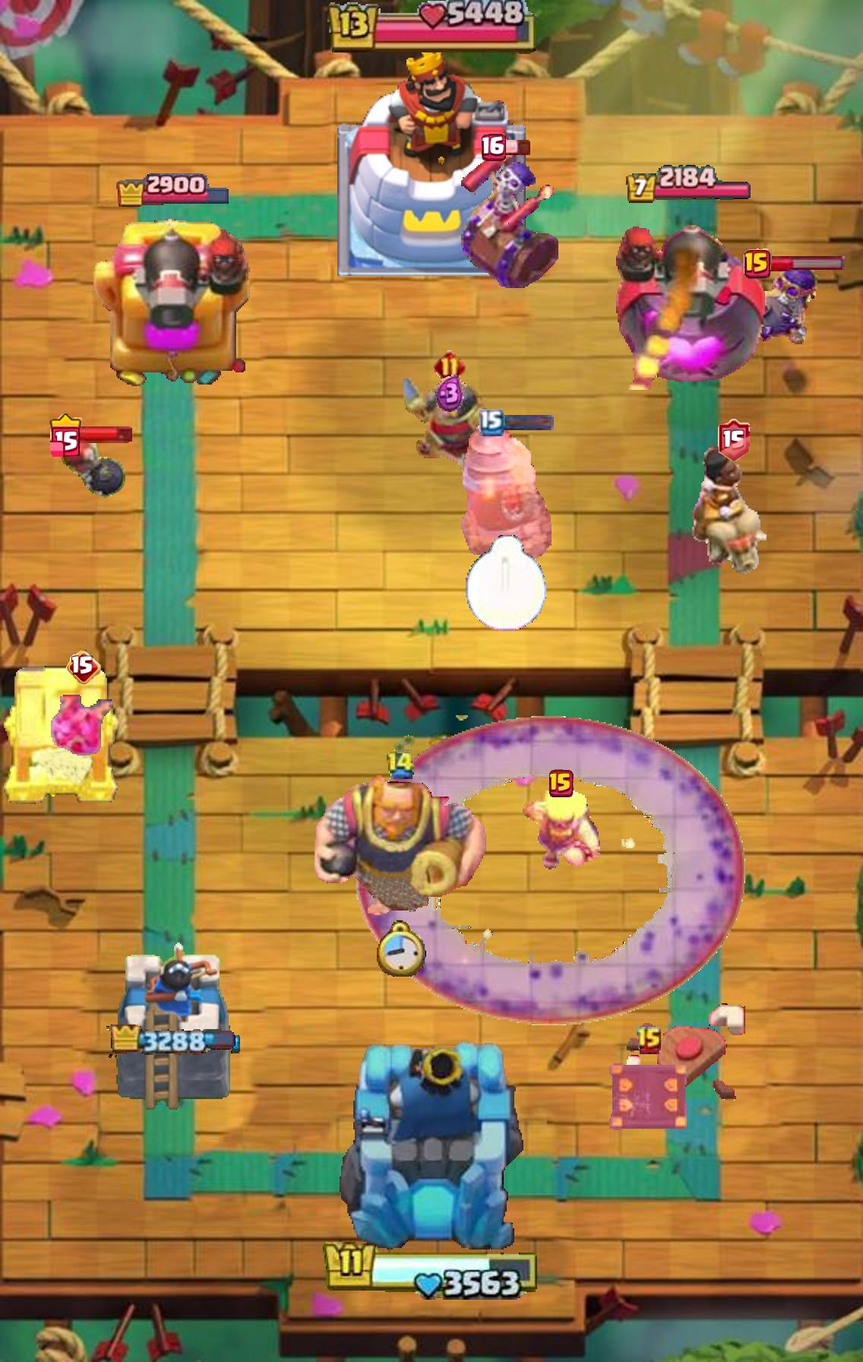bar: (768, 255, 846, 272), (78, 426, 133, 444), (502, 139, 531, 156)
bar-level: (49, 413, 82, 457), (718, 418, 750, 460), (66, 650, 101, 685), (434, 350, 466, 382), (744, 249, 772, 279), (636, 1026, 663, 1056), (549, 769, 574, 797), (482, 134, 506, 161)
